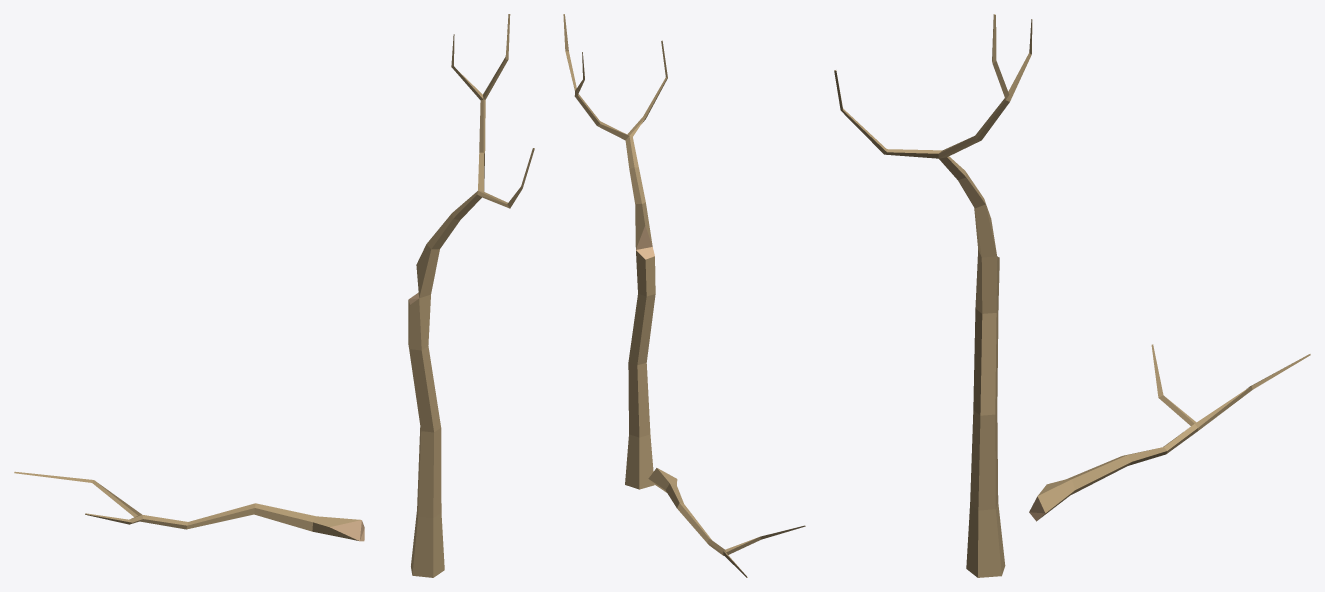
The model's file is Acacia_Tree_NoLeaves_crk_s_02.fbx.
3 renders of one model, left to right at view 1: azimuth 30°, elevation 25°; view 2: azimuth 150°, elevation 25°; view 3: azimuth 270°, elevation 25°, orthographic. The views are drawn at different scales.
Visible parts, largest first — view 1: Acacia_Tree_NoLeaves_crk_s_02; view 2: Acacia_Tree_NoLeaves_crk_s_02; view 3: Acacia_Tree_NoLeaves_crk_s_02.
Part boxes in pixels (x1,y1,x2,y2): Acacia_Tree_NoLeaves_crk_s_02: [14, 14, 534, 577]; Acacia_Tree_NoLeaves_crk_s_02: [563, 14, 805, 577]; Acacia_Tree_NoLeaves_crk_s_02: [834, 14, 1310, 577].
Bounding box in the file's own units: 434 × 620 × 444.
